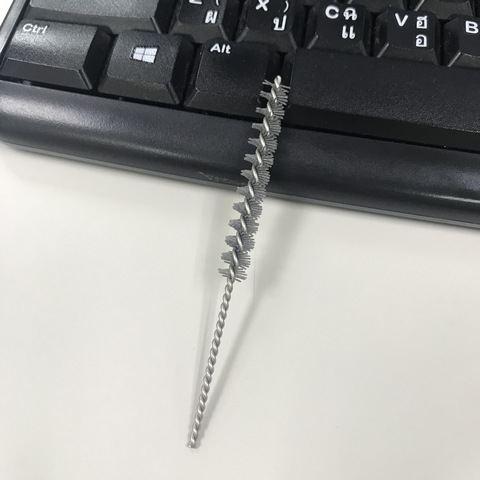Twist Brush-A: (181, 72, 294, 451)
